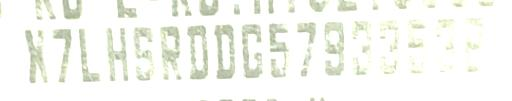letter: (20, 26, 52, 85), (404, 15, 432, 76), (238, 20, 266, 81), (102, 25, 130, 84), (460, 14, 486, 75), (376, 16, 402, 77), (348, 17, 374, 78), (158, 23, 184, 84), (76, 24, 102, 85), (321, 18, 347, 77), (266, 20, 292, 79), (212, 21, 238, 80), (184, 23, 210, 82), (130, 23, 156, 82), (433, 14, 457, 75), (294, 18, 318, 79), (50, 27, 74, 84)
